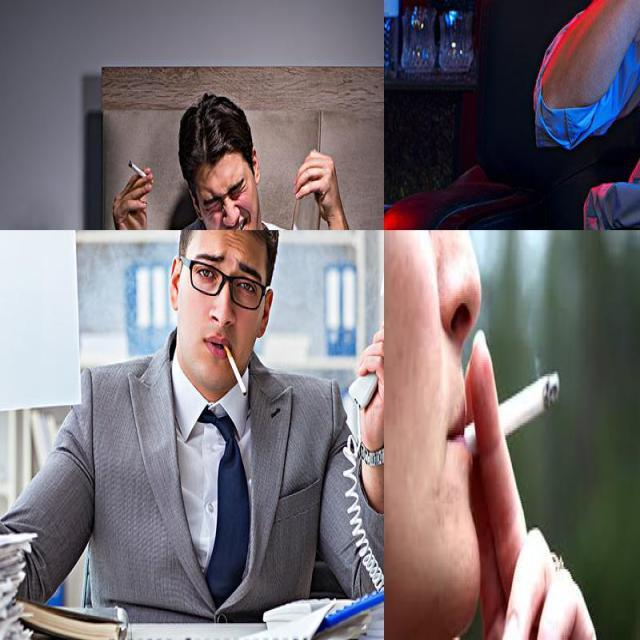smoking: (454, 371, 560, 464), (224, 342, 248, 397), (127, 158, 154, 184)
